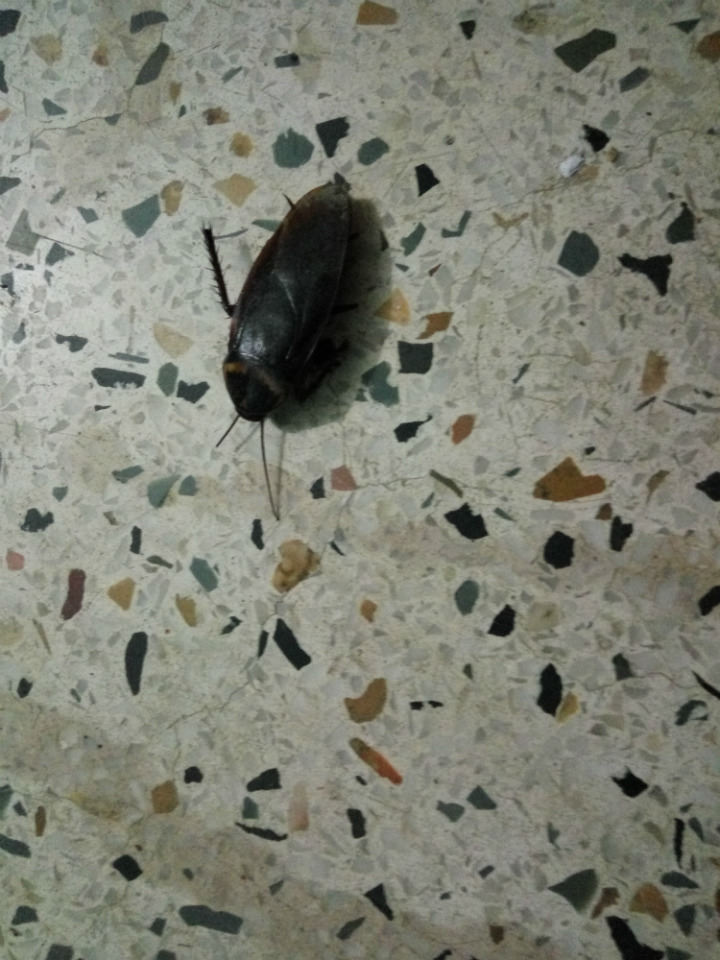cockroach: (135, 90, 456, 566)
